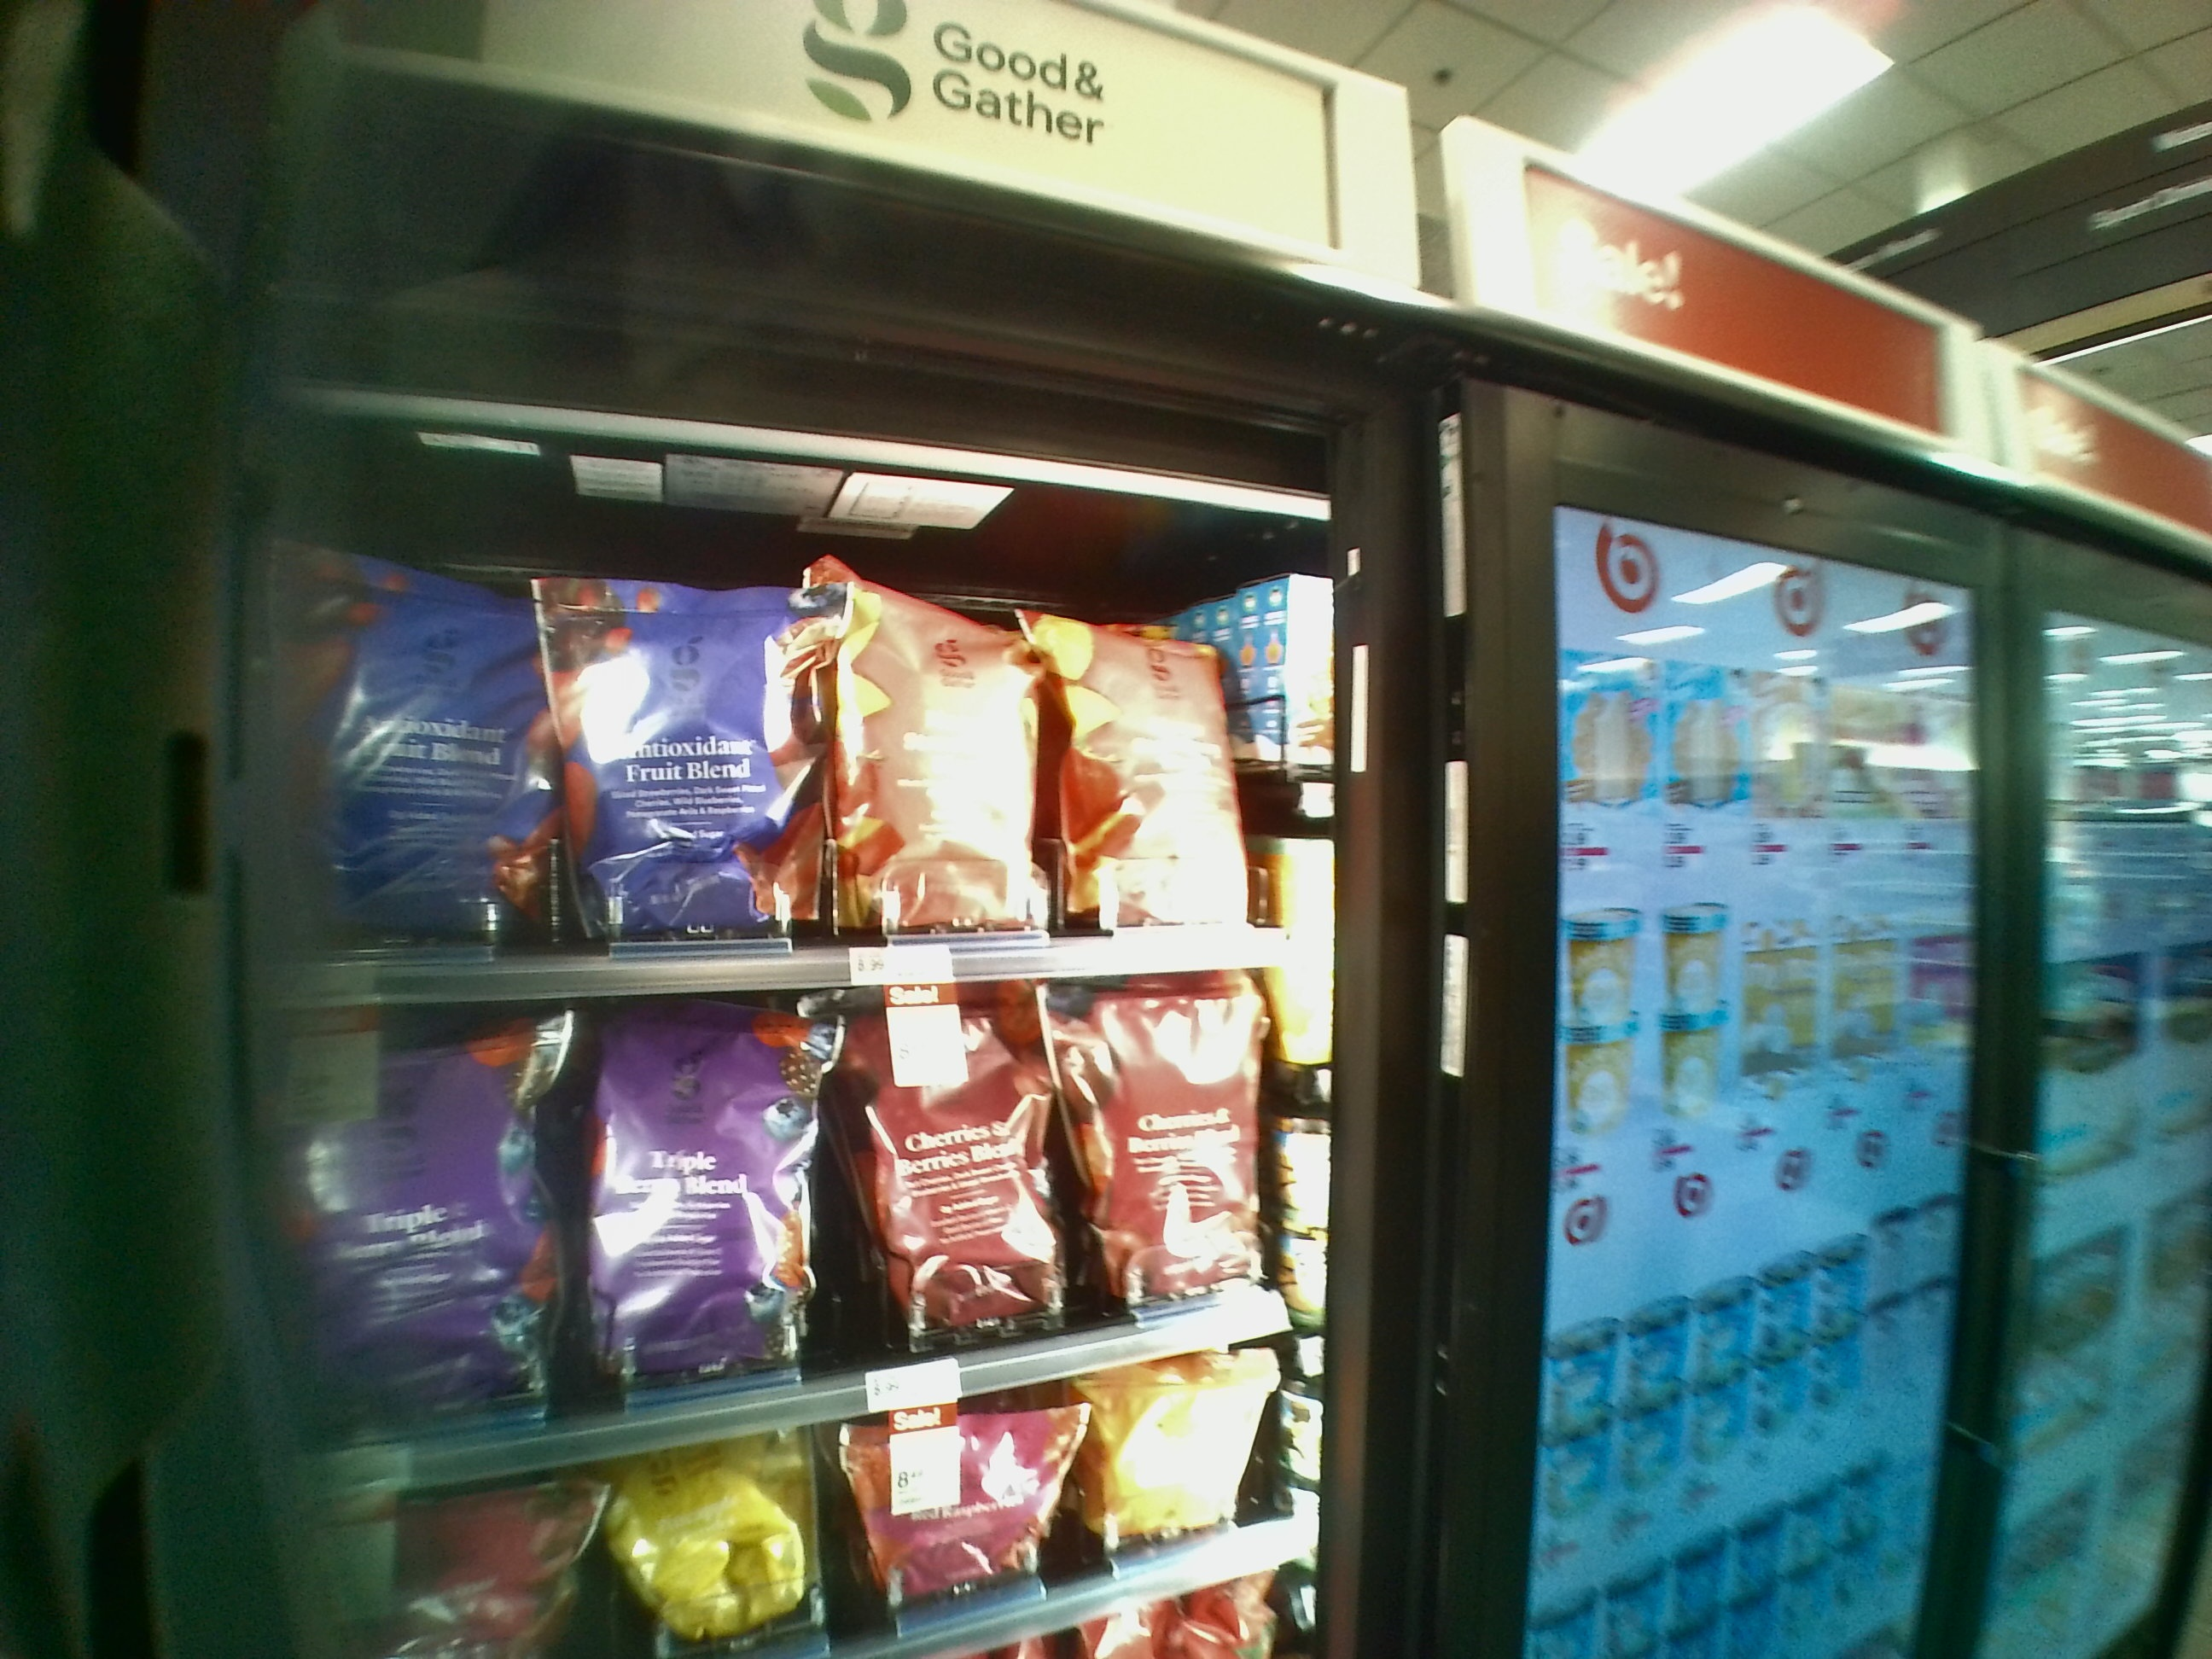shelf: (275, 471, 1318, 992), (284, 983, 1301, 1436)
